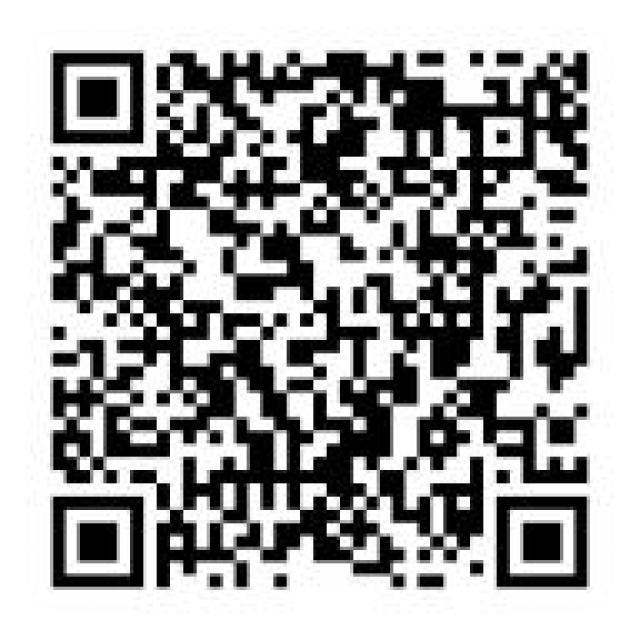qr_code: (50, 52, 588, 587)
